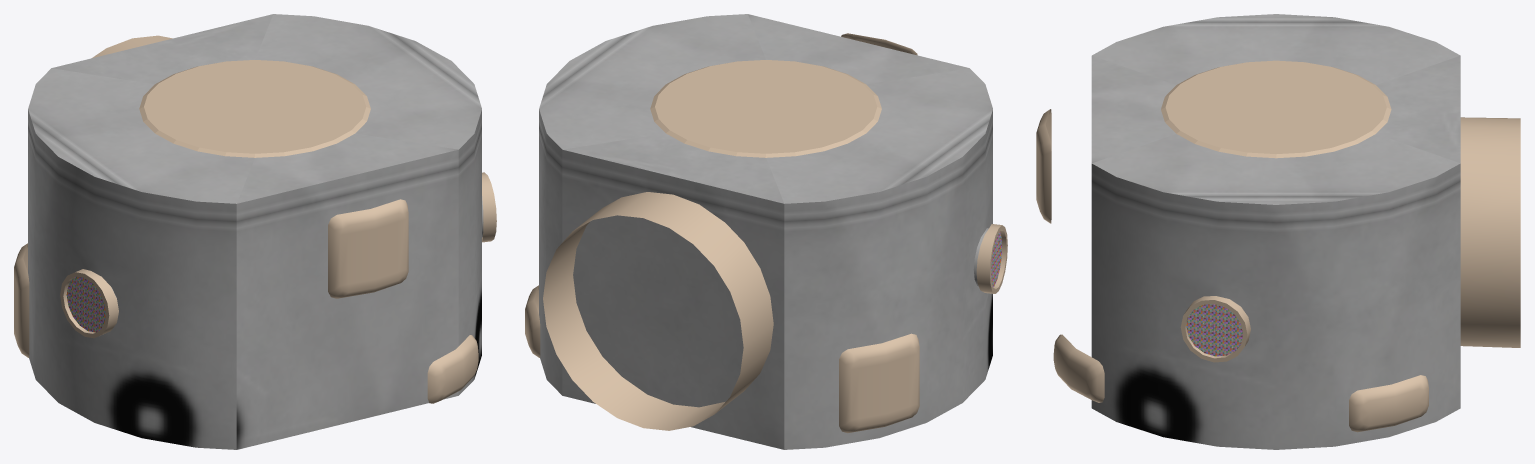
Rendered from vega_crew_s1_2_interior.obj.
3 views of the same model, side by side, from view 1: azimuth 30°, elevation 25°; view 2: azimuth 150°, elevation 25°; view 3: azimuth 270°, elevation 25° (orthographic).
Visible parts, largest first — view 1: i1, im1, iw1; view 2: i1, im1; view 3: i1, im1, iw1.
Boxes of the visible parts, box(x1,y1,x2,y2) form: i1: box(28, 14, 483, 449); im1: box(14, 35, 496, 403); iw1: box(66, 276, 105, 332); i1: box(539, 14, 992, 449); im1: box(525, 33, 1007, 433); i1: box(1091, 14, 1460, 449); im1: box(1036, 60, 1520, 432); iw1: box(1186, 304, 1242, 356).
Bounding box in the file's own units: 1.3 × 0.745 × 1.31.
